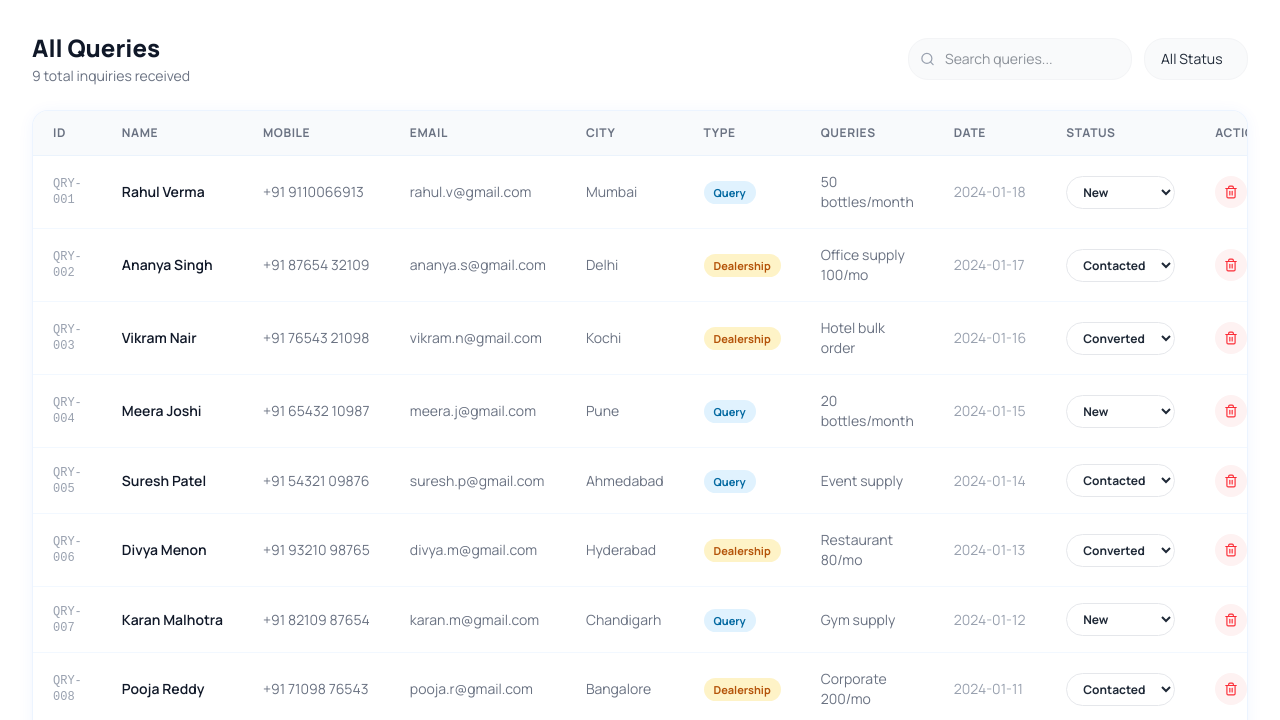
Scenario: QueriesView › filters rows by the search term
Expected: the text "Rahul Verma" is shown, [102,156,243,228]
Type "Ananya" into the field with placeholder "Search queries..." at (1020, 59), box [908,38,1132,80]
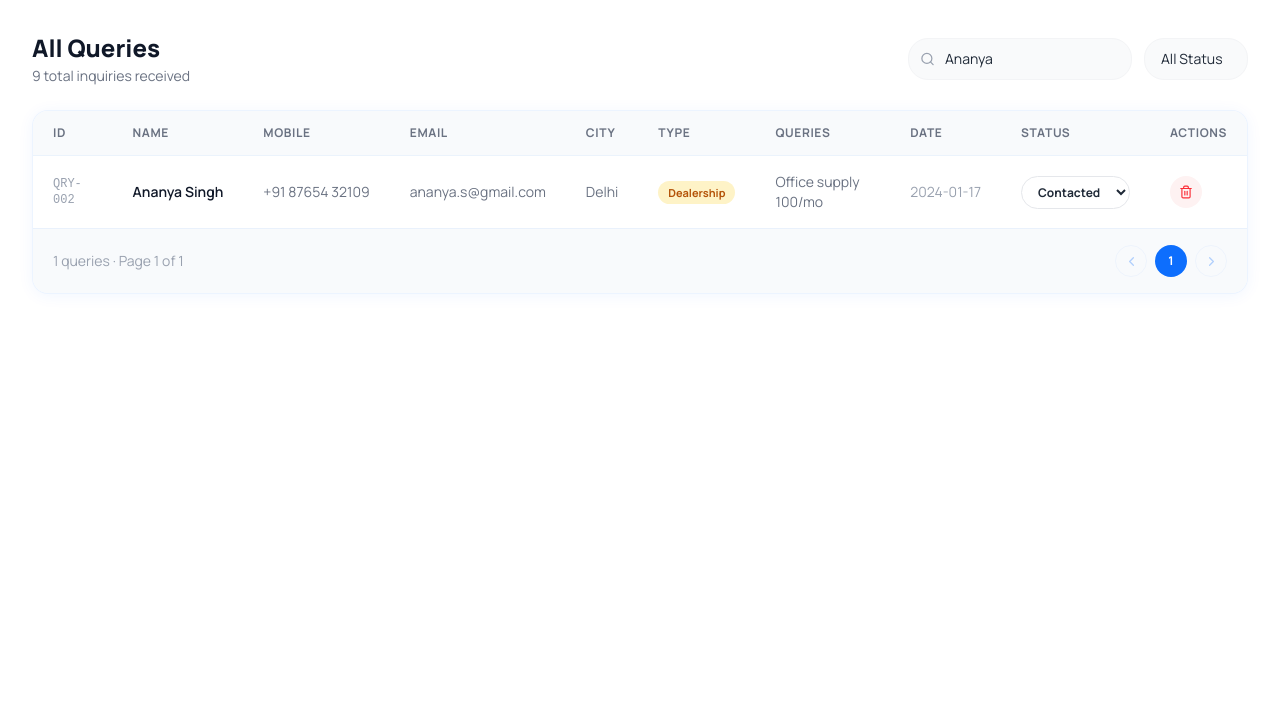
Expected: the text "Ananya Singh" is shown, [113,156,243,228]
Expected: the text "Rahul Verma" is gone
